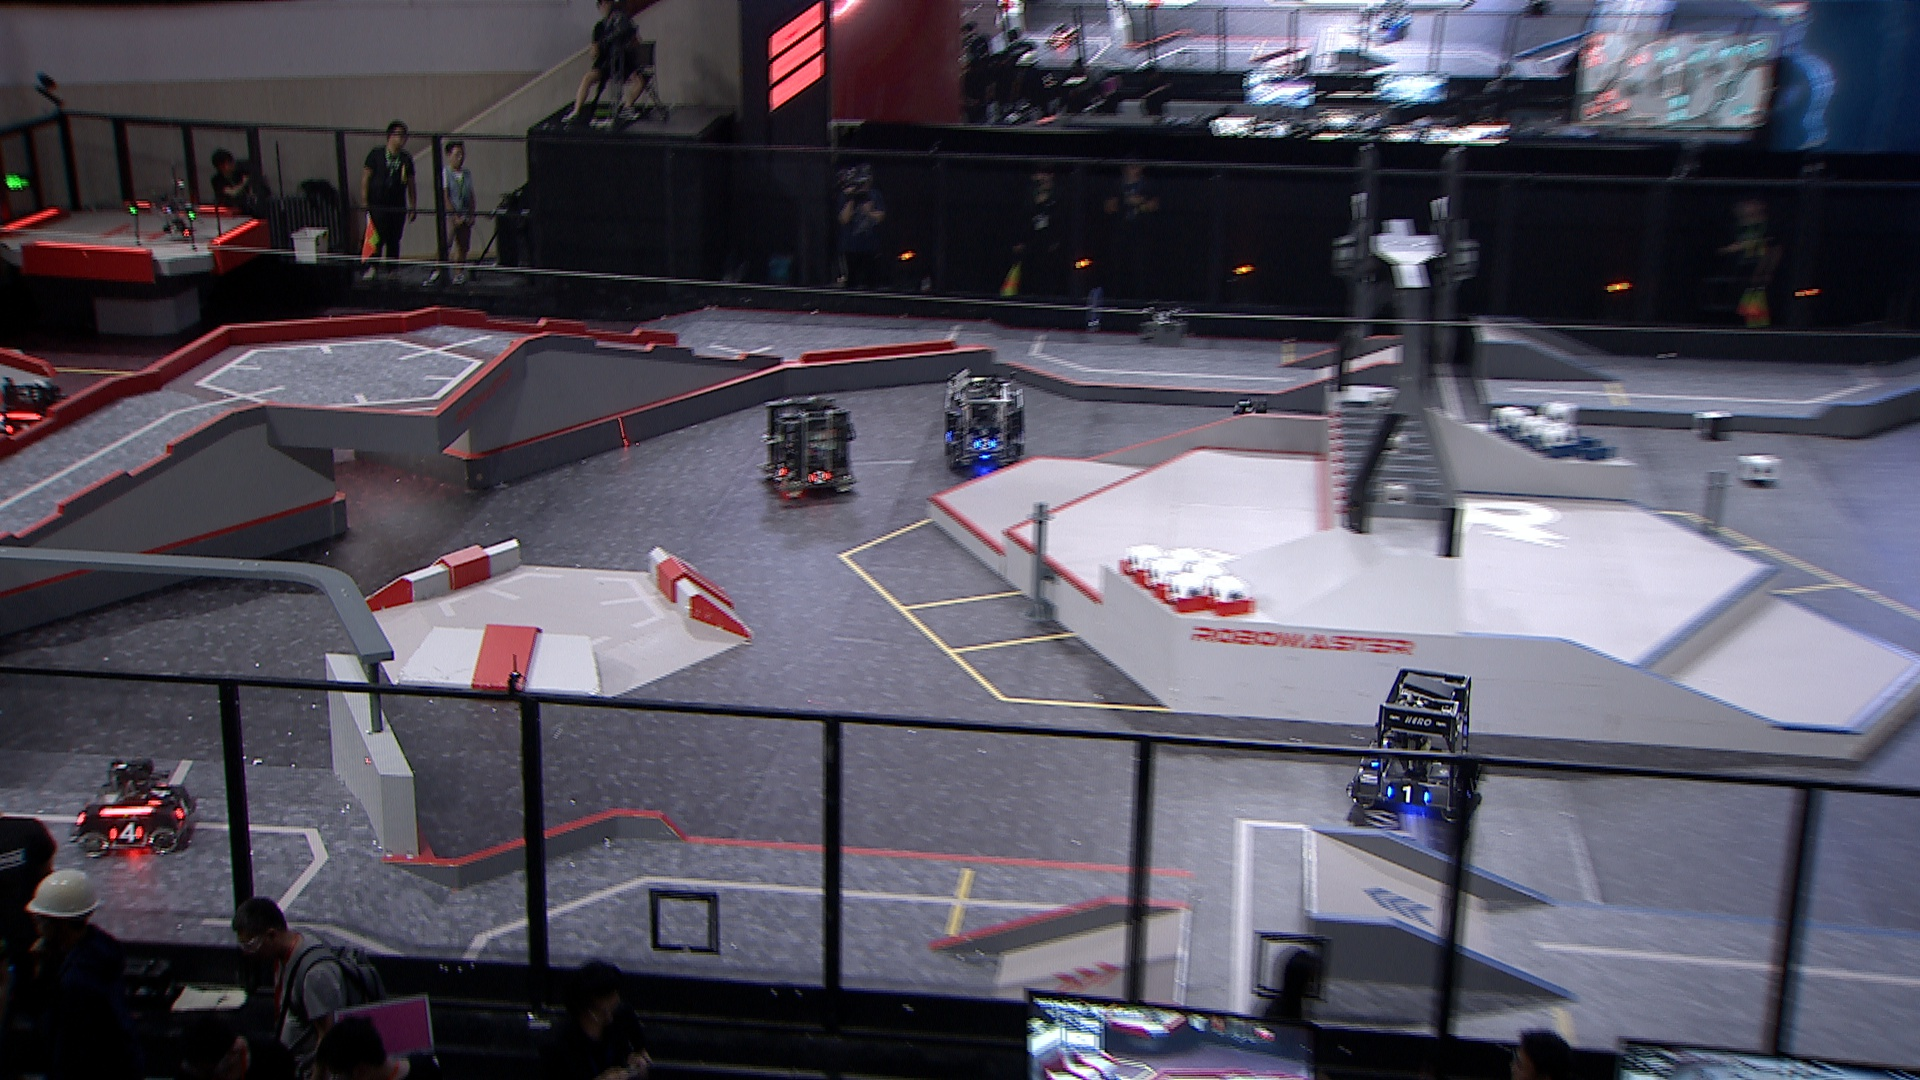armor: (1385, 783, 1432, 806), (109, 822, 145, 845), (148, 781, 174, 808), (171, 796, 195, 820), (804, 469, 832, 487), (972, 436, 997, 454), (771, 462, 789, 483)
car: (1346, 665, 1484, 825), (69, 754, 199, 860), (756, 396, 861, 502), (940, 367, 1026, 467)
ignore: (1358, 0, 1411, 38), (1040, 21, 1084, 50)
